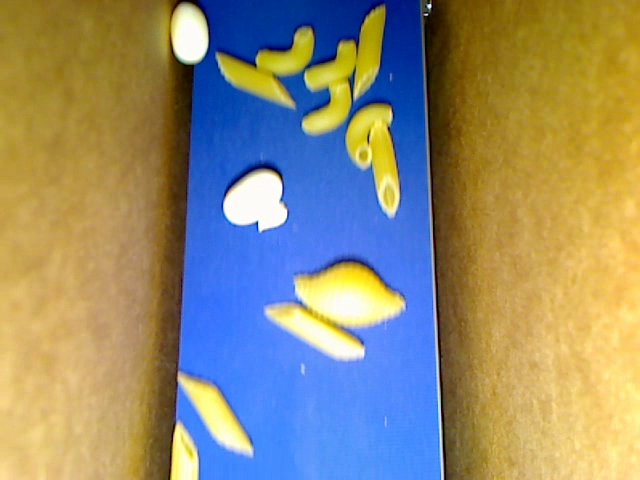elbow: (345, 102, 393, 170), (256, 27, 313, 77), (301, 79, 351, 136), (303, 40, 357, 91)
penne: (178, 374, 253, 457), (264, 302, 365, 361), (215, 52, 293, 107), (368, 119, 400, 217), (353, 4, 385, 99), (170, 419, 199, 479)
shell: (293, 261, 407, 327)
